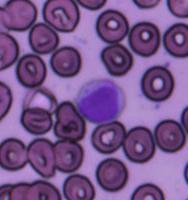L: (75, 77, 125, 124)
